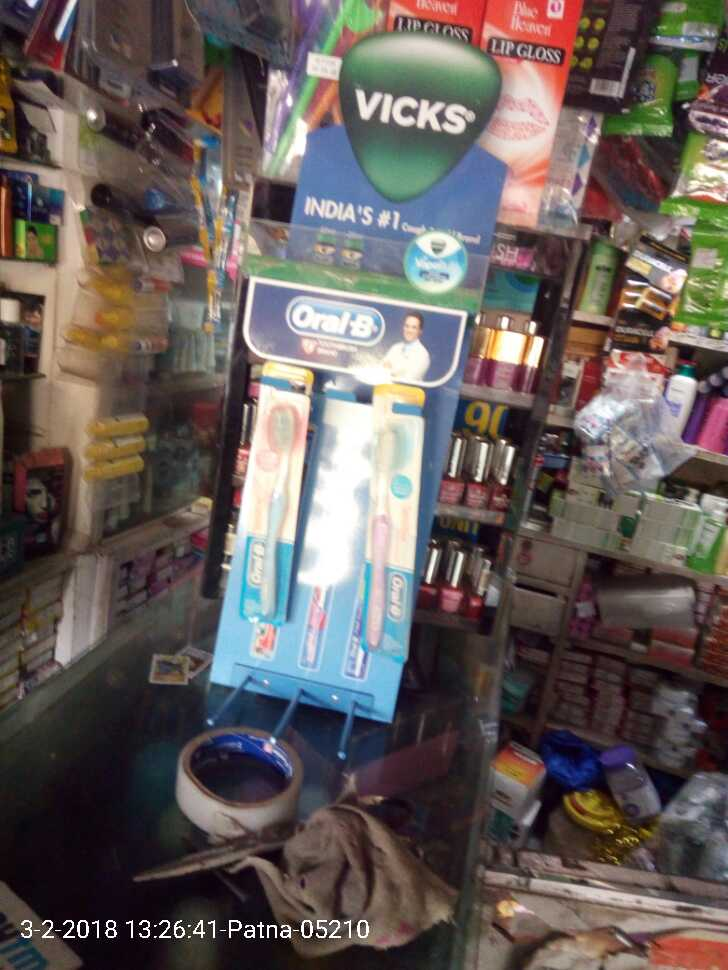oralb: (247, 394, 314, 619), (360, 423, 413, 661)
